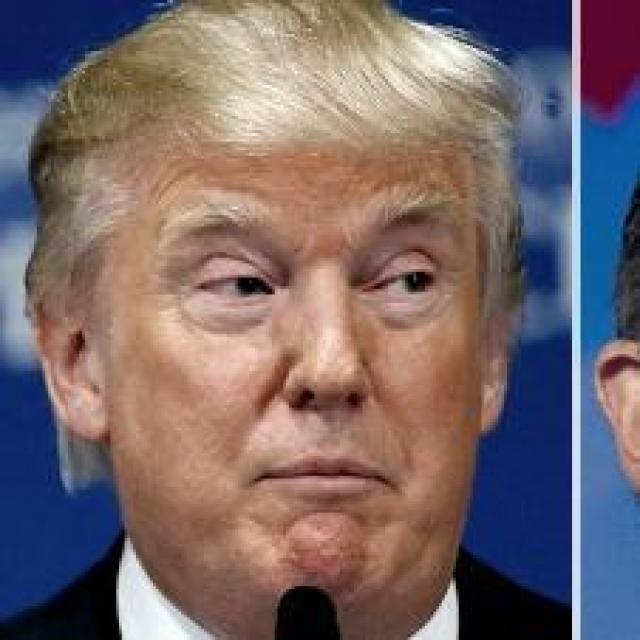surprised: (74, 71, 482, 583)
